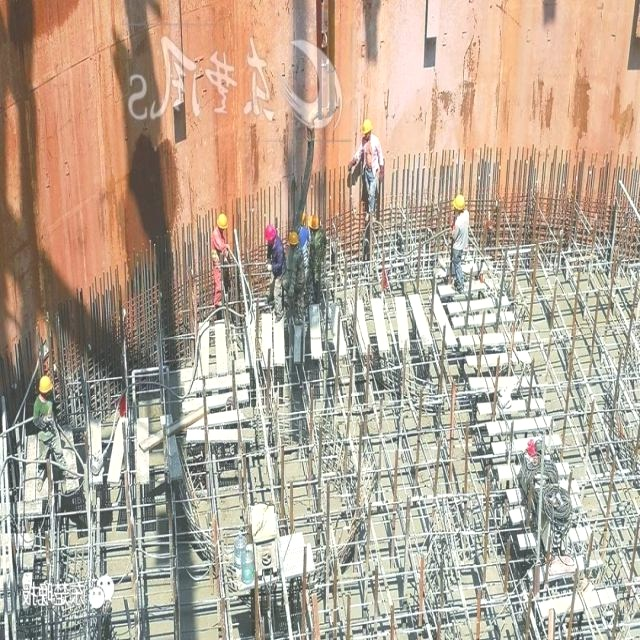Con_Casco: (452, 194, 466, 214), (216, 213, 228, 231)
